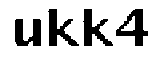4: (116, 7, 151, 49)
k: (46, 6, 81, 48), (82, 5, 113, 48)
u: (9, 13, 41, 49)
